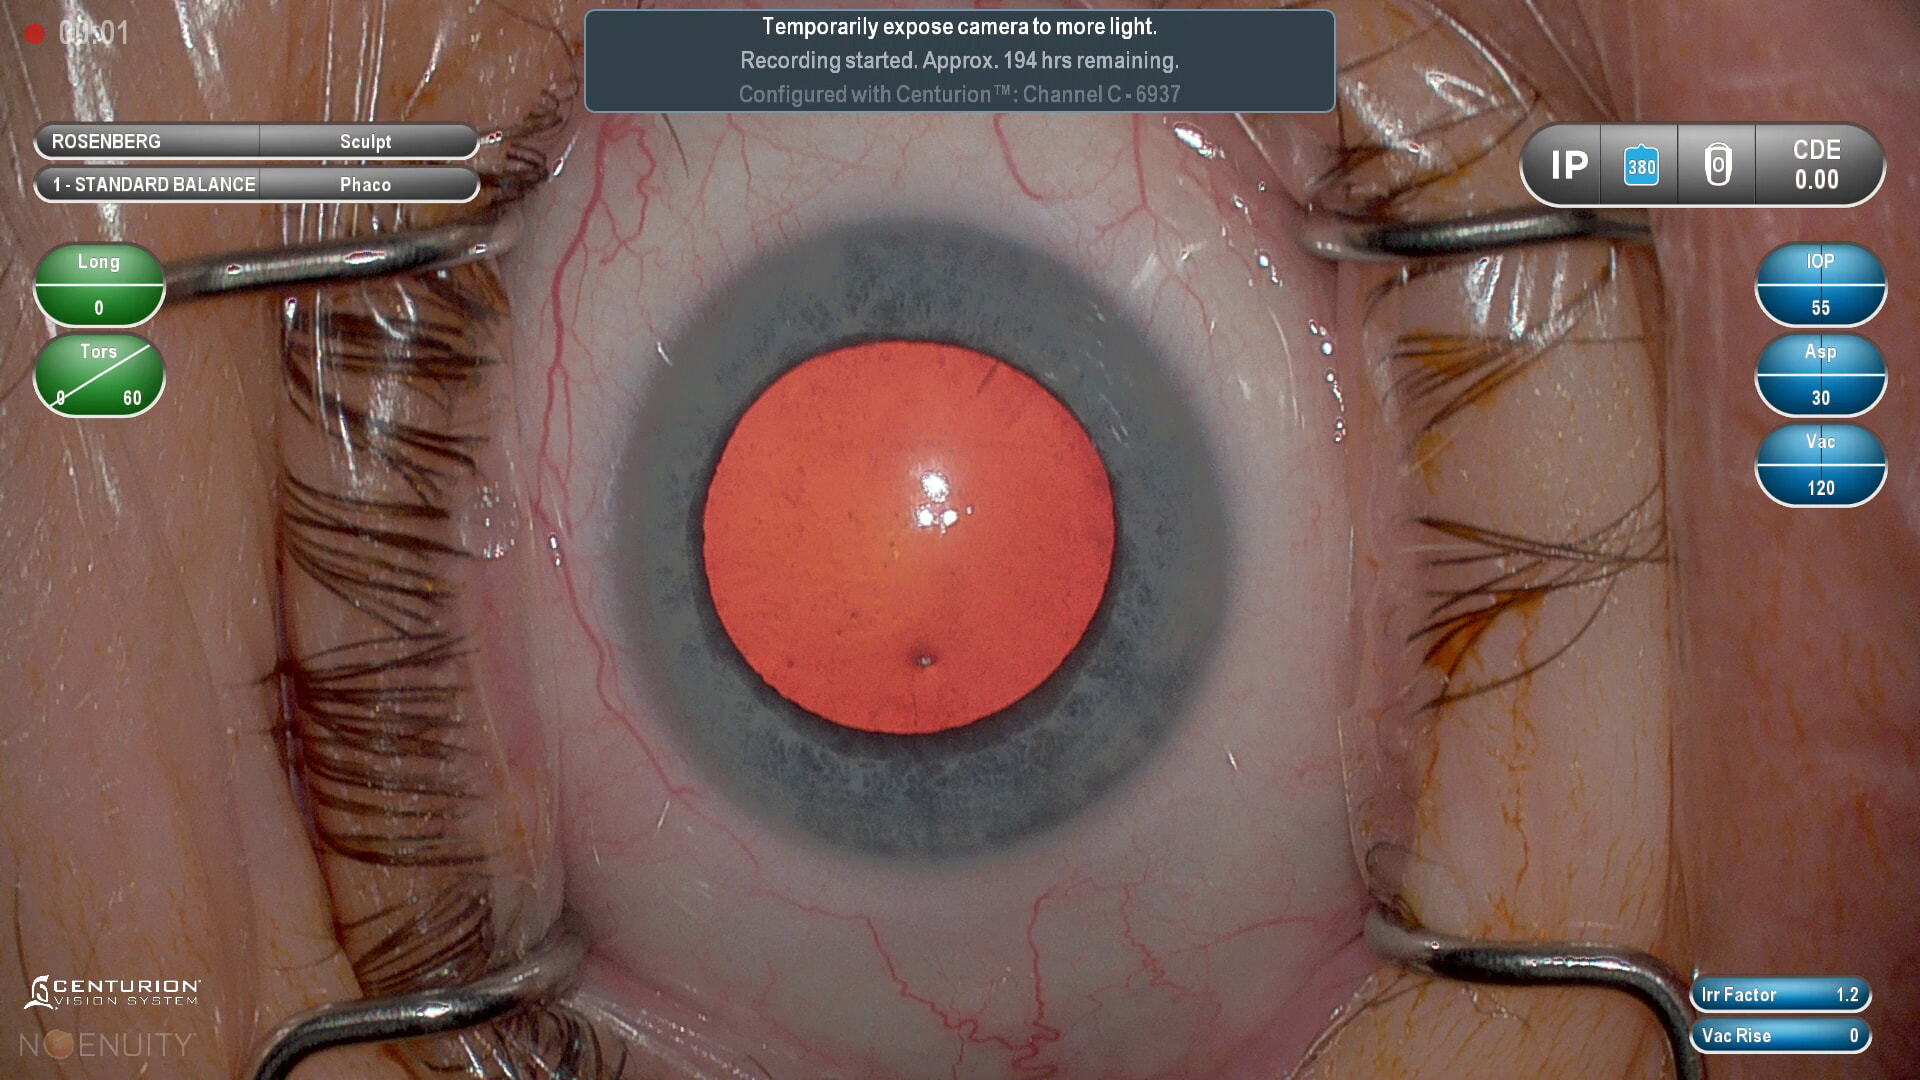iris: (627, 214, 1216, 863)
pupil: (688, 331, 1116, 734)
